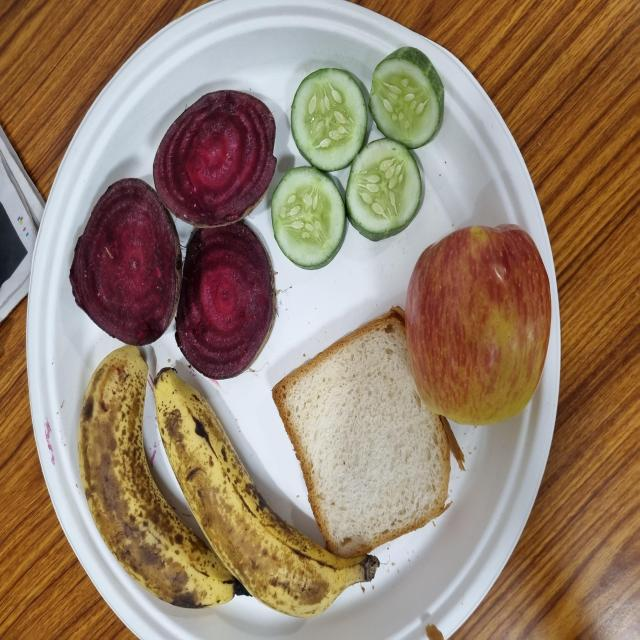apple: (402, 225, 555, 428)
banana: (148, 367, 379, 619), (79, 360, 241, 611)
cucumber: (331, 135, 426, 245), (268, 166, 348, 273), (288, 69, 370, 172), (368, 47, 446, 153)
